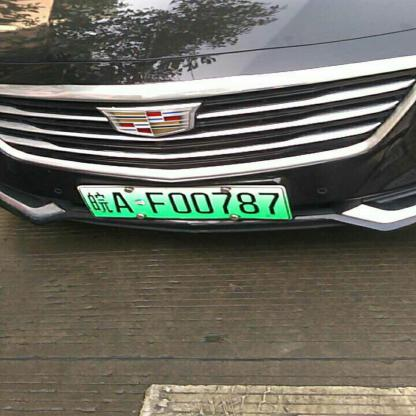lp: (80, 186, 289, 218)
